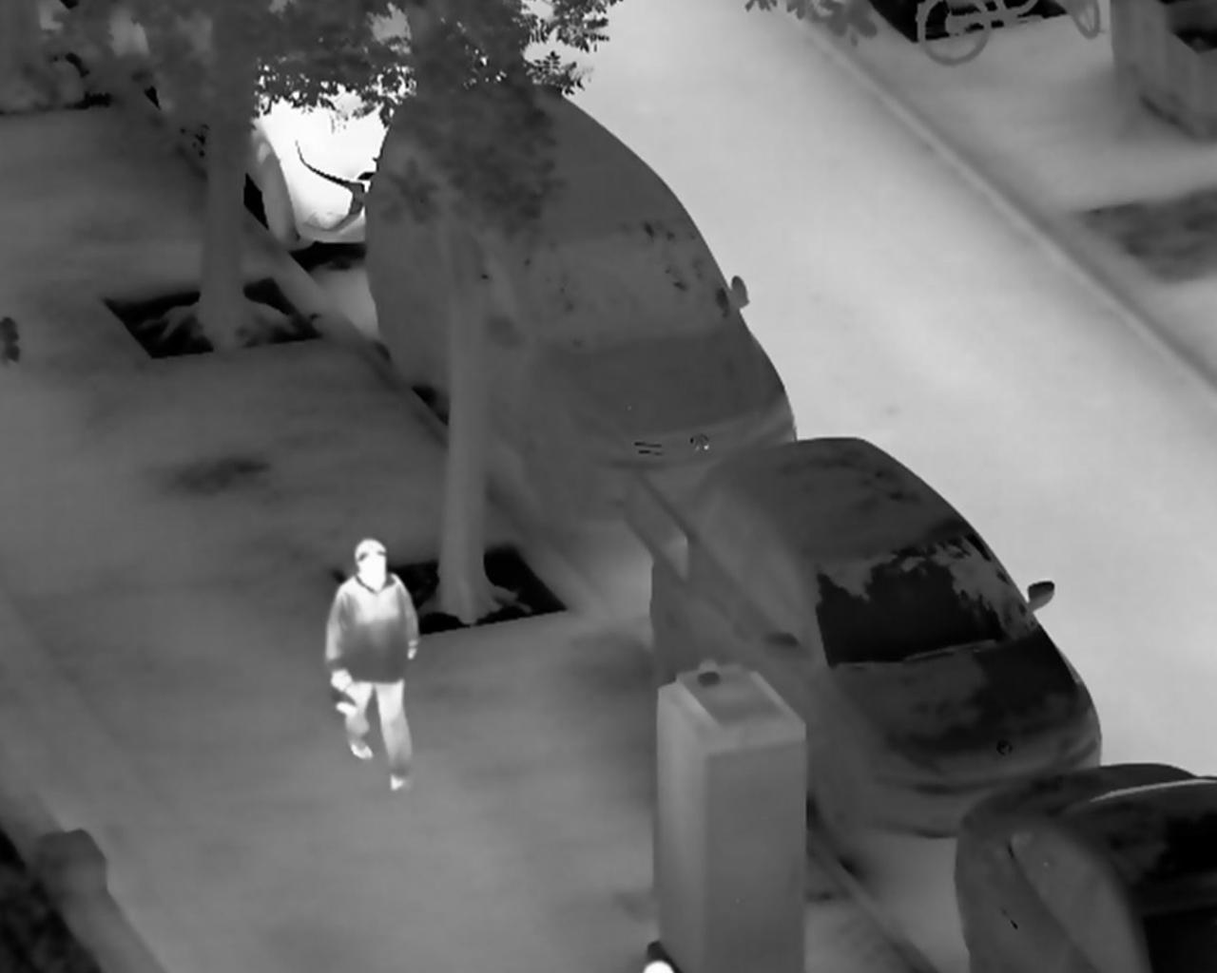person: (324, 538, 419, 794)
